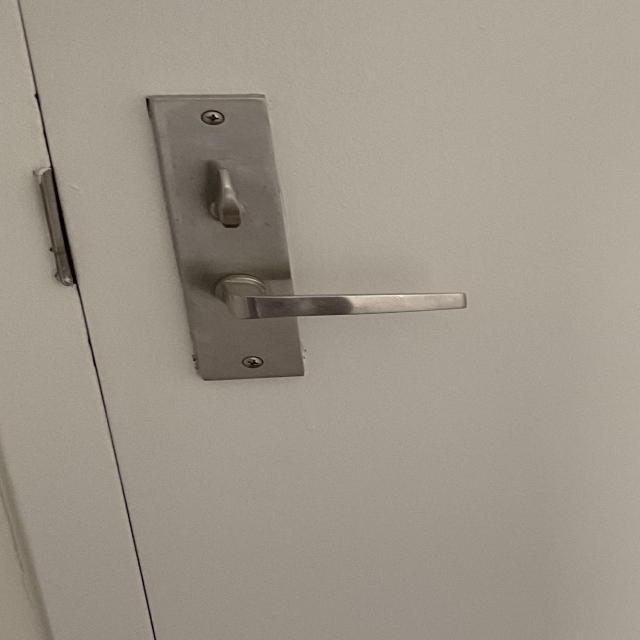door_handle: (194, 263, 479, 333)
